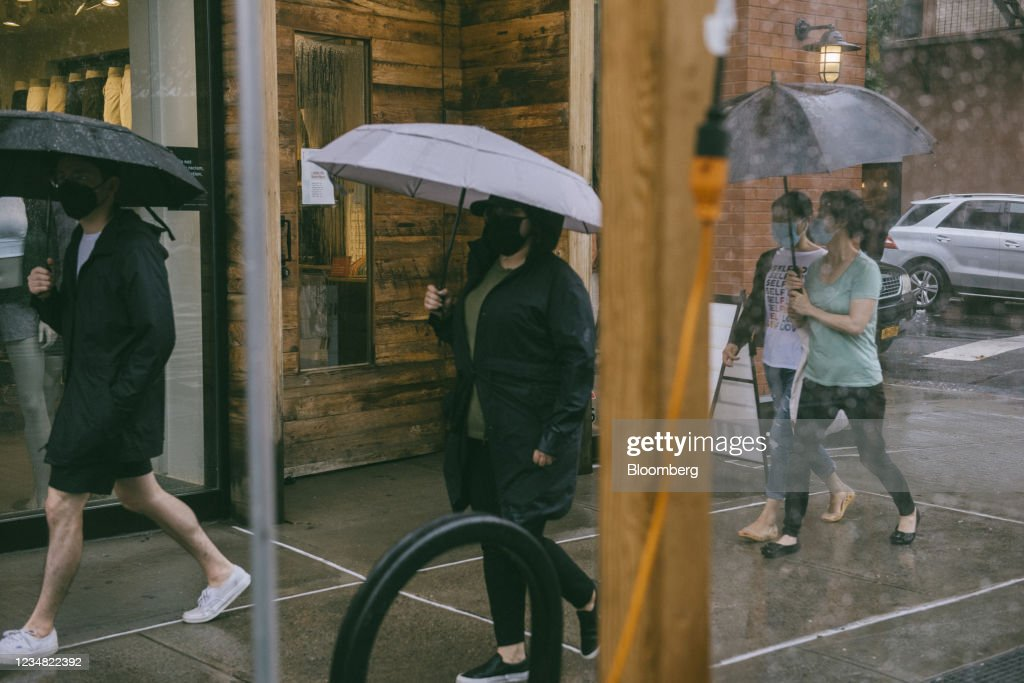person: (11, 156, 240, 652), (425, 197, 590, 674), (796, 183, 883, 562)
